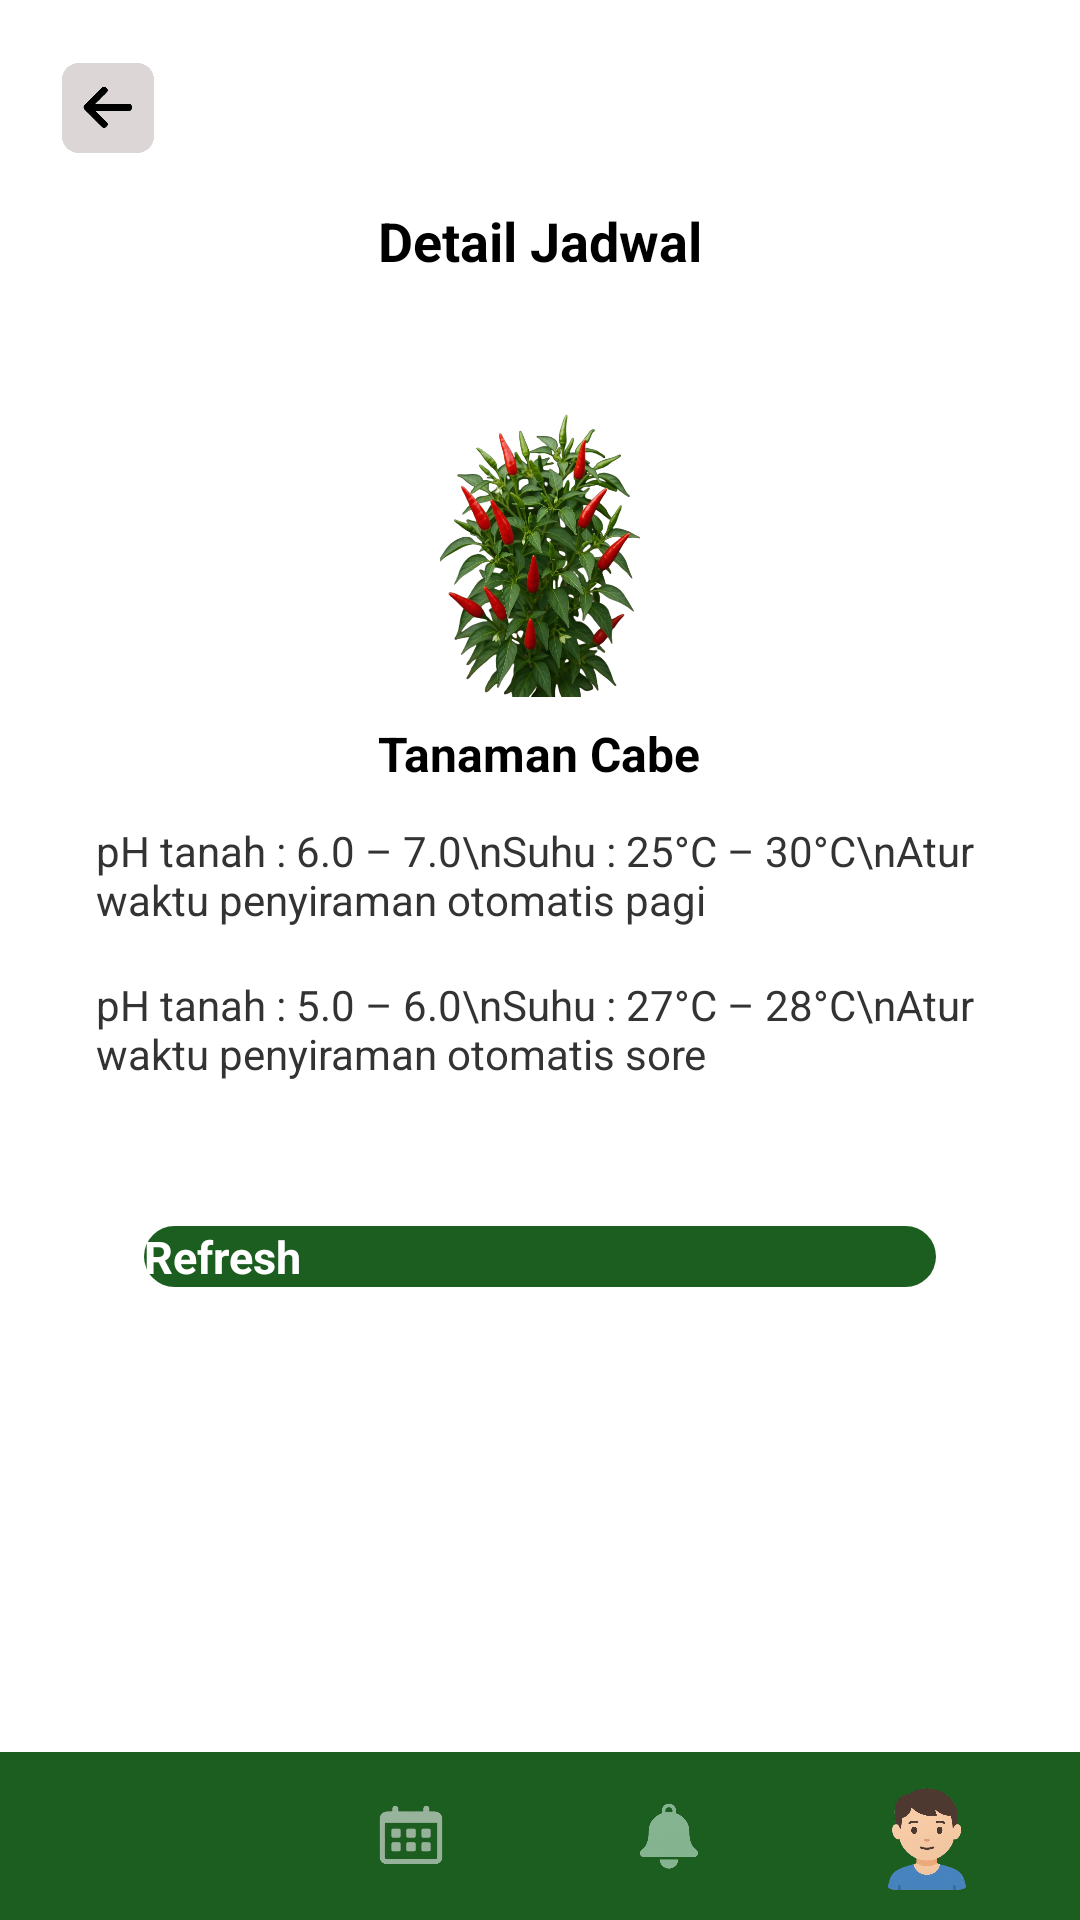

Icon click points for this 1080w x 1920h phone screenshot, format point (x, y):
Gambar Tanaman: point (540, 555)
Nav Bell: point (669, 1836)
Nav Calendar: point (411, 1835)
Nav User: point (927, 1839)
